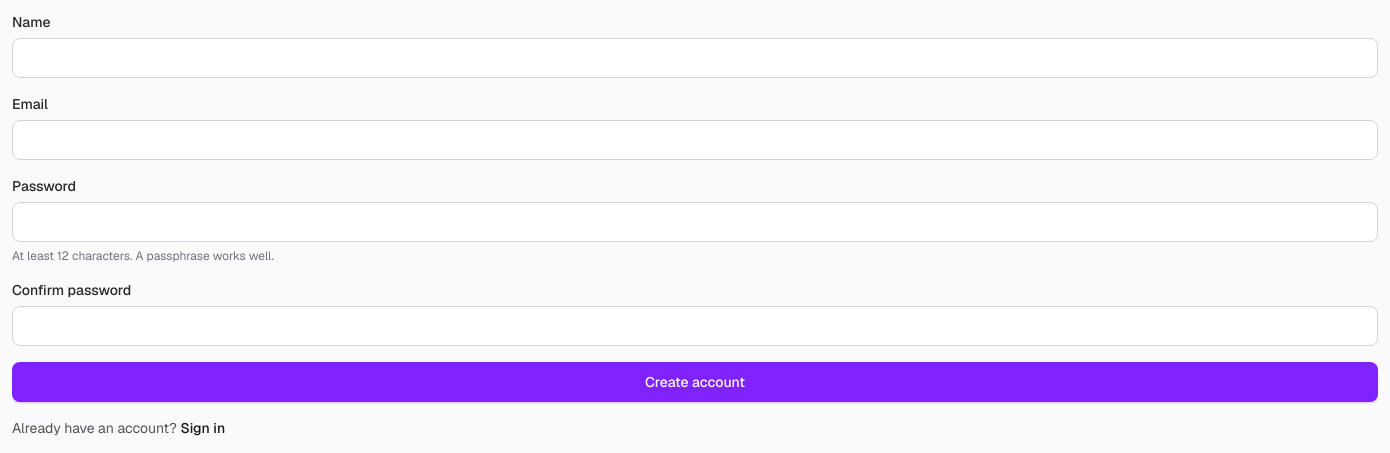
Test: RegisterForm › shows the neutral confirmation after submitting
The image size is (1390, 453).
In the field labelled "Name": (695, 58) [12,38,1378,78], type "Jane"
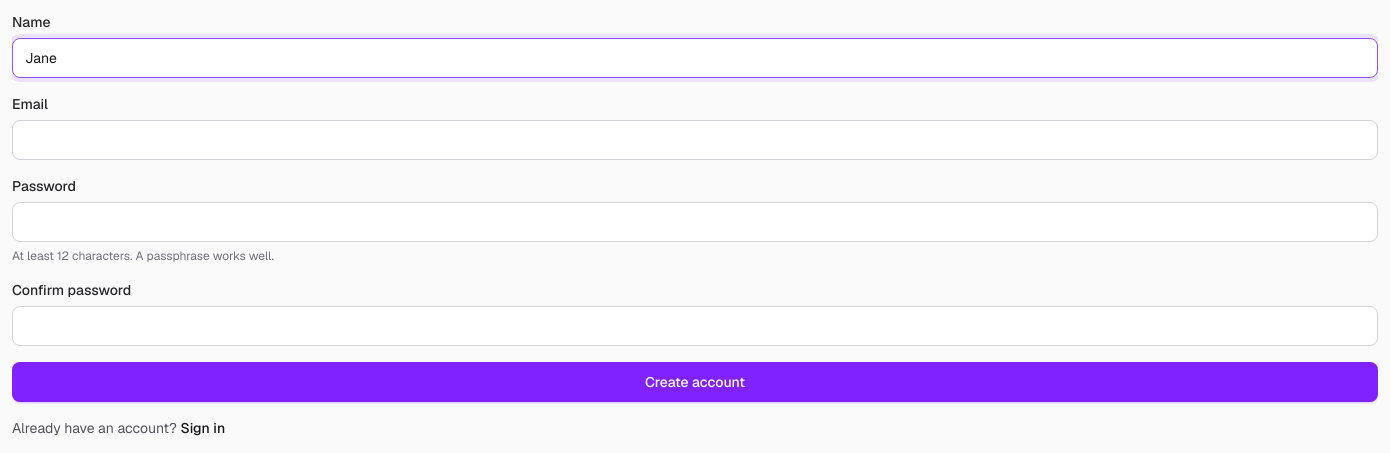
In the field labelled "Email": (695, 140) [12,120,1378,160], type "j@example.com"
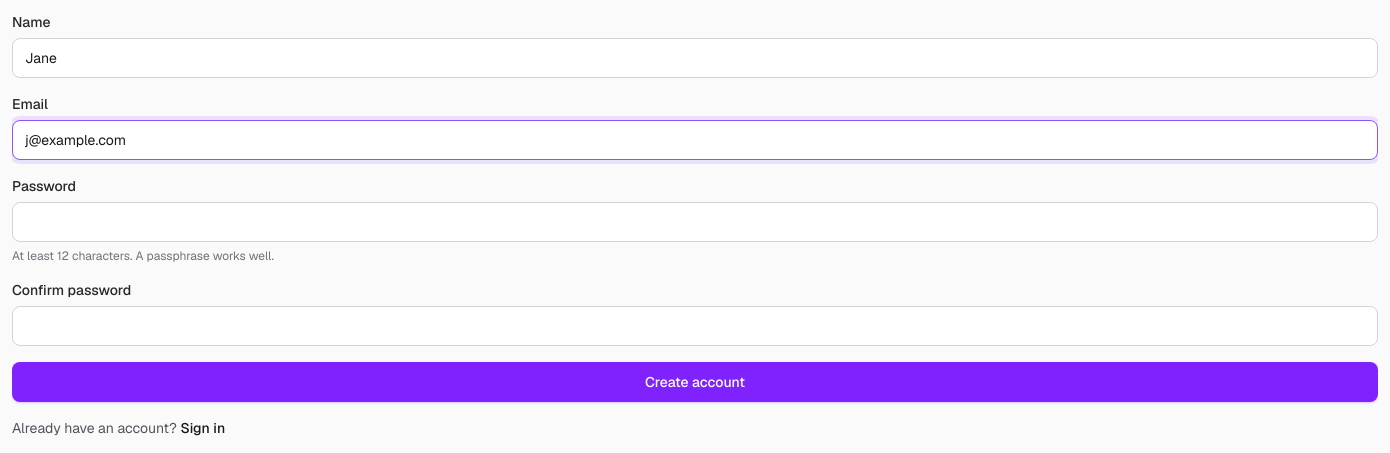
In the password field labelled "Password": (695, 222) [12,202,1378,242], type "a good long passphrase"
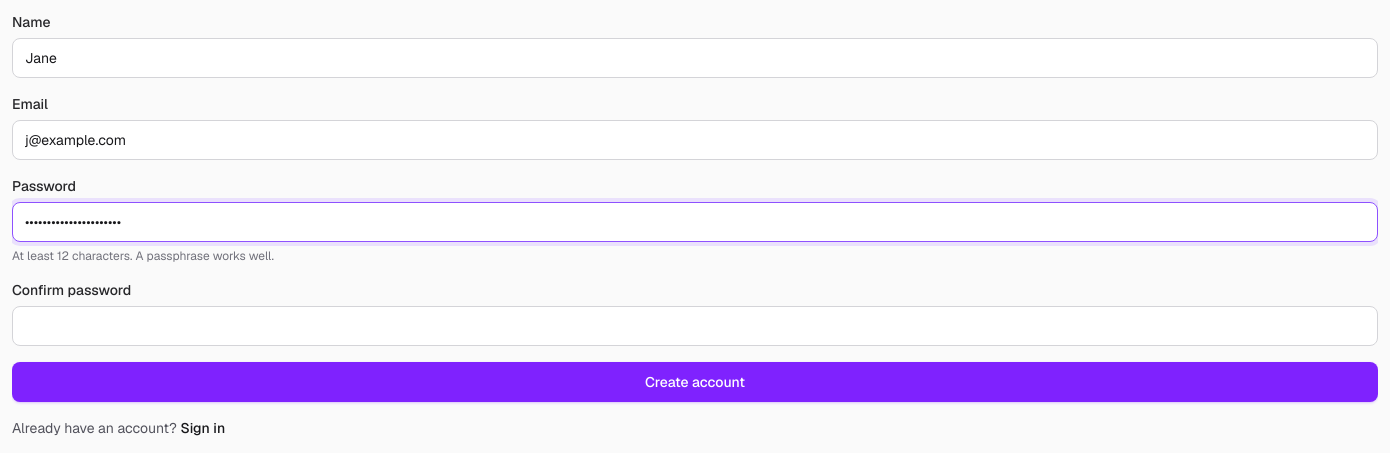
In the password field labelled "Confirm password": (695, 326) [12,306,1378,346], type "a good long passphrase"
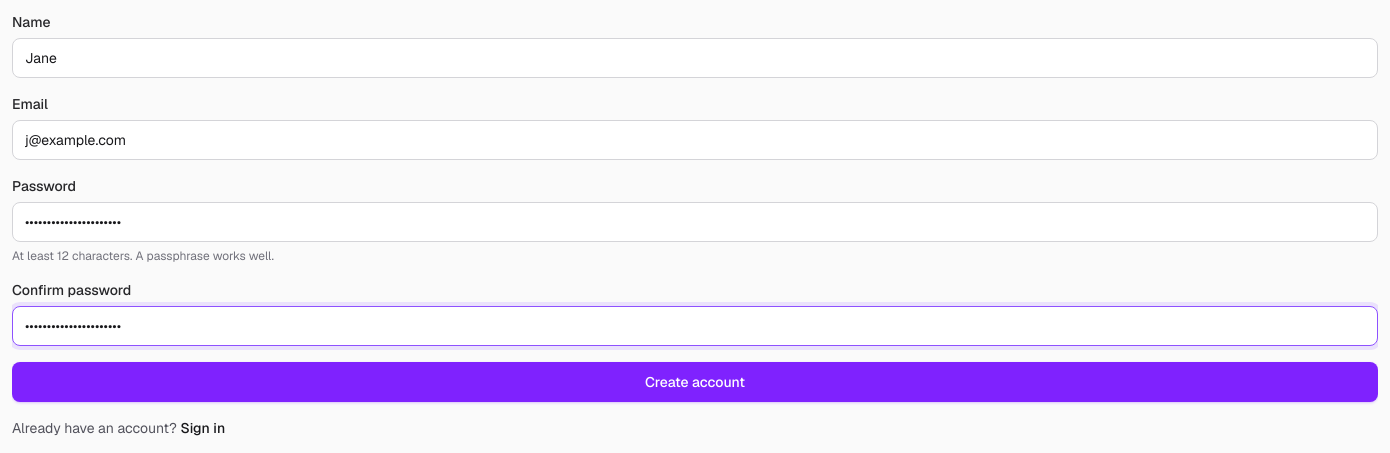
Click the button "Create account": click(695, 382) [12,362,1378,402]
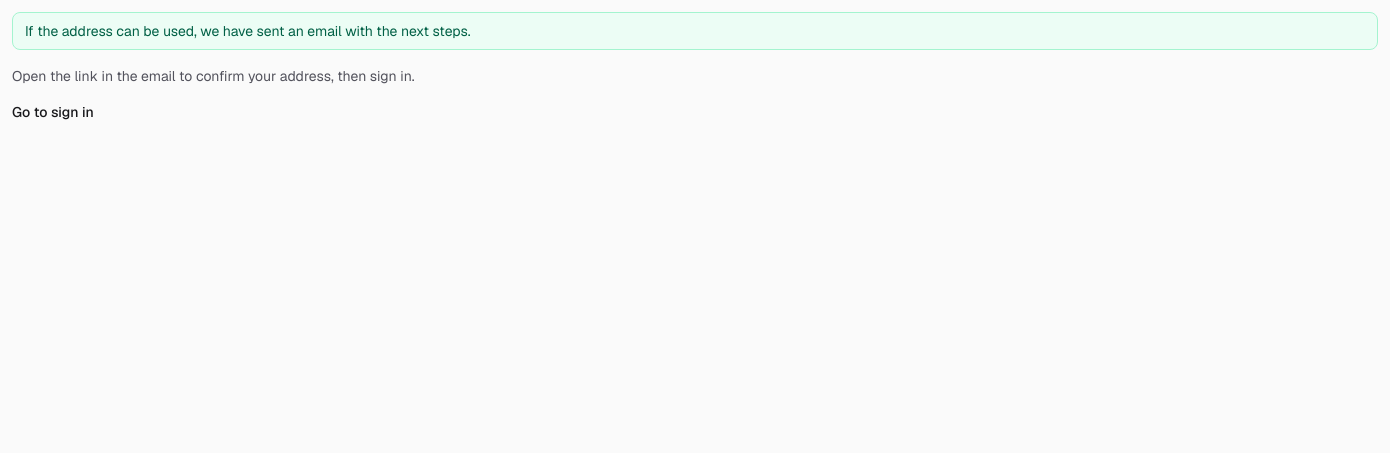
Check: the text "If the address can be used, we have sent an email with the next steps." is shown, box [12,12,1378,50]
